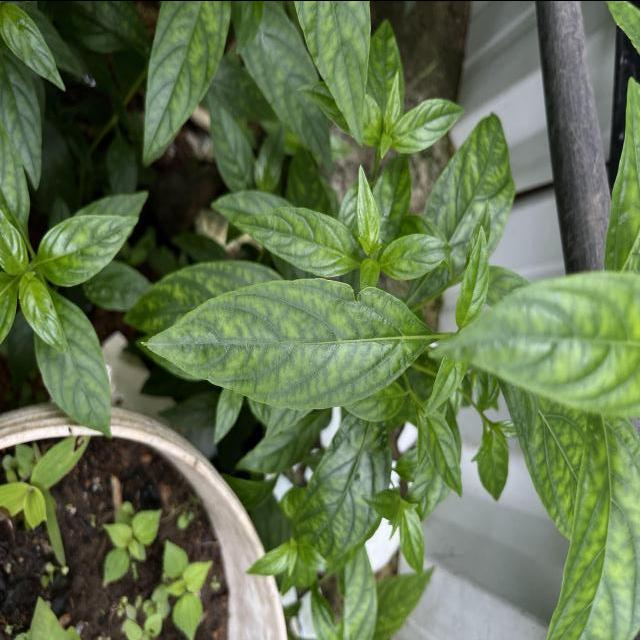Andrographis paniculata: (138, 277, 433, 411), (411, 111, 517, 302), (32, 290, 114, 438), (233, 204, 359, 280), (36, 210, 141, 288), (392, 95, 465, 156), (424, 408, 465, 498), (379, 232, 454, 280), (354, 162, 381, 249), (397, 507, 426, 573)
